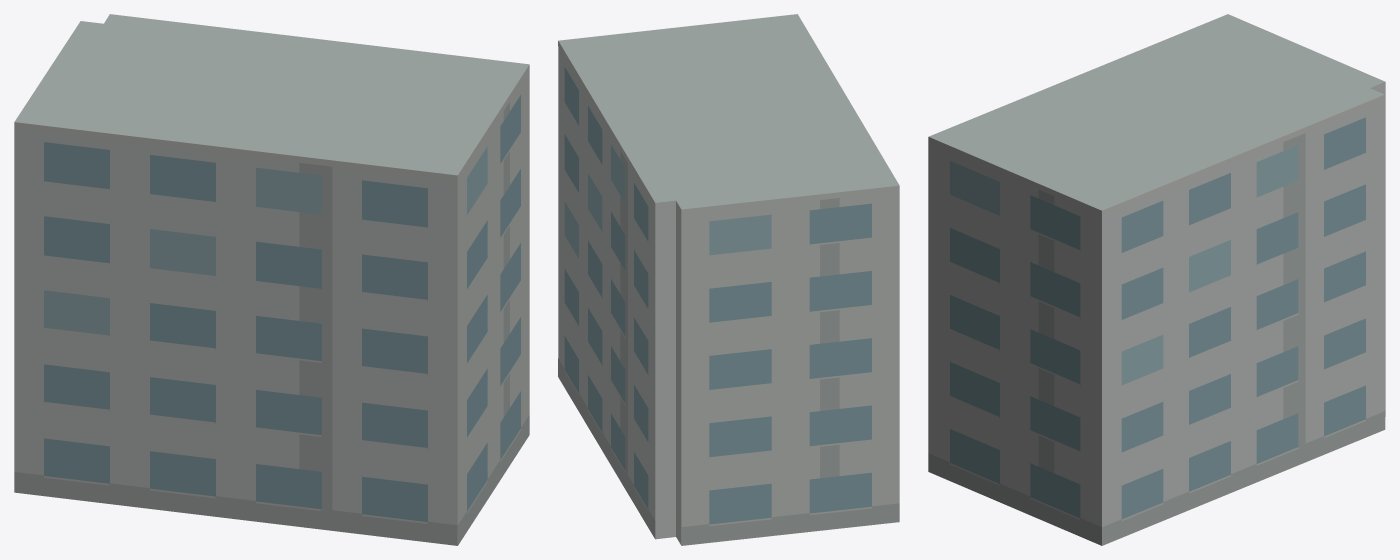
Rendered from survey-upis-32881790.glb.
The picture shows the model from 3 angles, left to right: view 1: azimuth 30°, elevation 25°; view 2: azimuth 150°, elevation 25°; view 3: azimuth 270°, elevation 25°; orthographic projection. The views are drawn at different scales.
Visible parts, largest first — view 1: survey-upis-32881790.tmp; view 2: survey-upis-32881790.tmp; view 3: survey-upis-32881790.tmp.
Part boxes in pixels (x1,y1,x2,y2): survey-upis-32881790.tmp: (14,14,529,545); survey-upis-32881790.tmp: (558,14,899,545); survey-upis-32881790.tmp: (928,14,1385,545).
Bounding box in the file's own units: 17.89 × 14.2 × 17.56.
